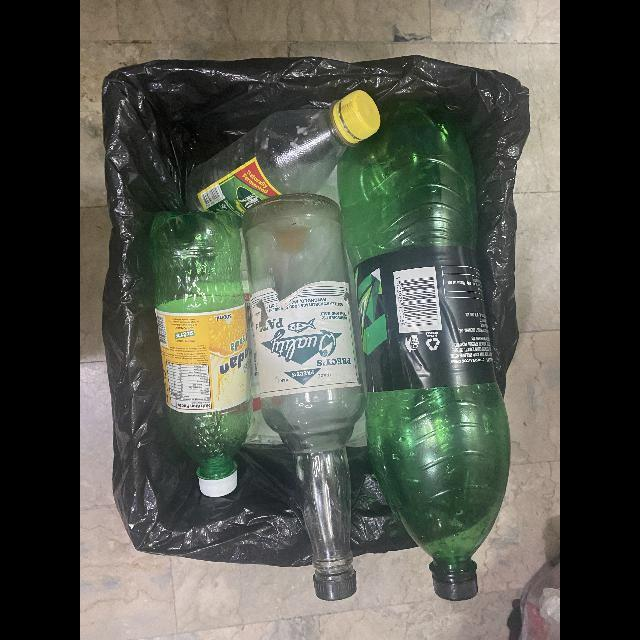glass_bottle: (243, 194, 365, 602)
plastic_bottle: (337, 106, 511, 603), (150, 211, 252, 498), (186, 90, 381, 214)
